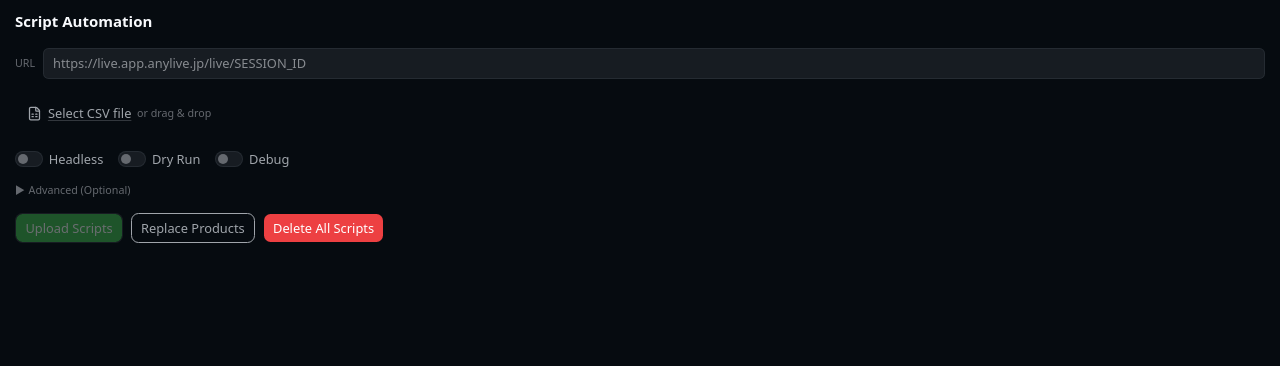
Test: ScriptsPanel › shows delete confirmation dialog when delete button clicked
This screenshot has width=1280, height=366.
Click the button with test id "delete-scripts-button": (324, 228) [263, 213, 384, 243]
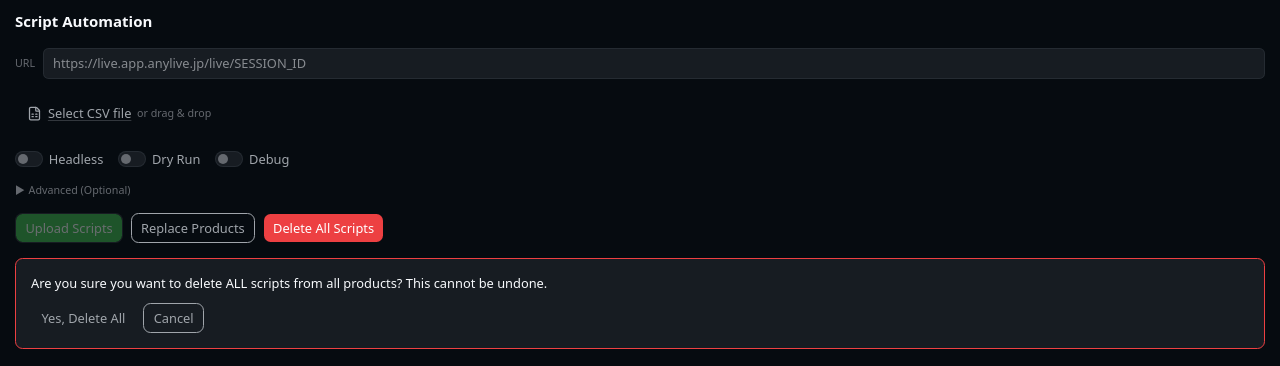
Check: the element with test id "delete-confirm-dialog" is shown, box [15, 258, 1265, 349]
Check: the button with test id "confirm-delete-button" is shown, box [31, 303, 136, 333]
Check: the button with test id "cancel-delete-button" is shown, box [143, 303, 204, 333]
